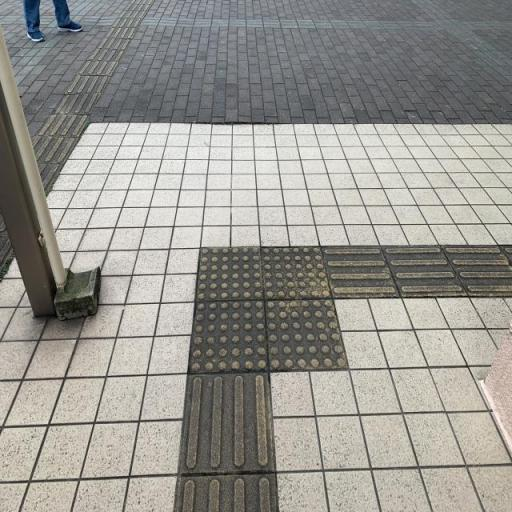dot: (186, 244, 350, 375)
line: (178, 373, 279, 477), (319, 242, 402, 300), (384, 245, 471, 299), (174, 468, 279, 511), (442, 245, 511, 297)
